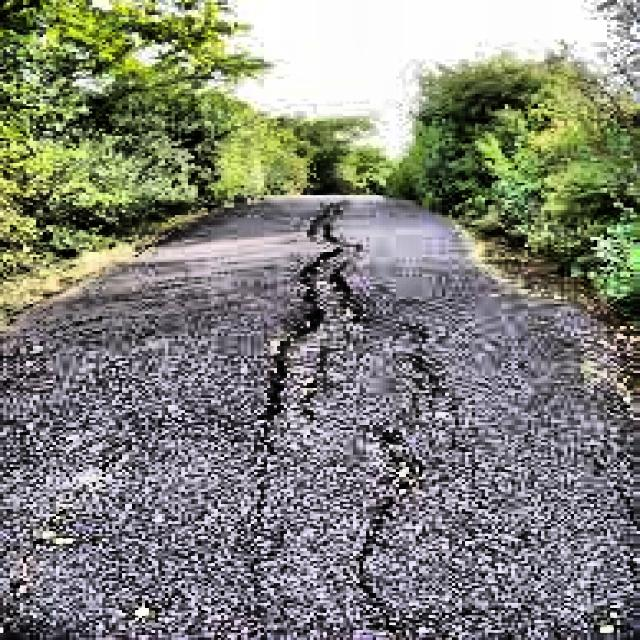Clogged Drains: (267, 203, 336, 420)
